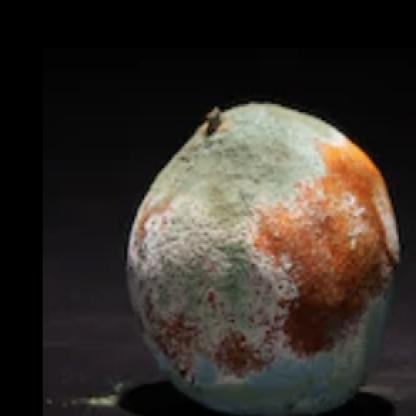rotten: (126, 103, 401, 416)
